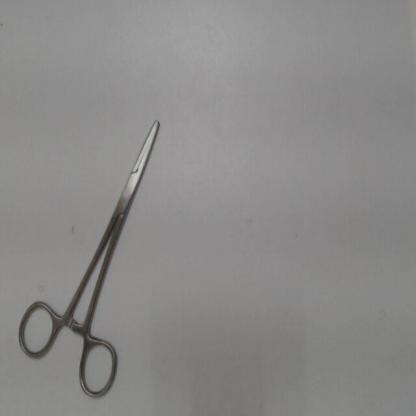Mayo Needle Holder: (13, 95, 175, 406)
